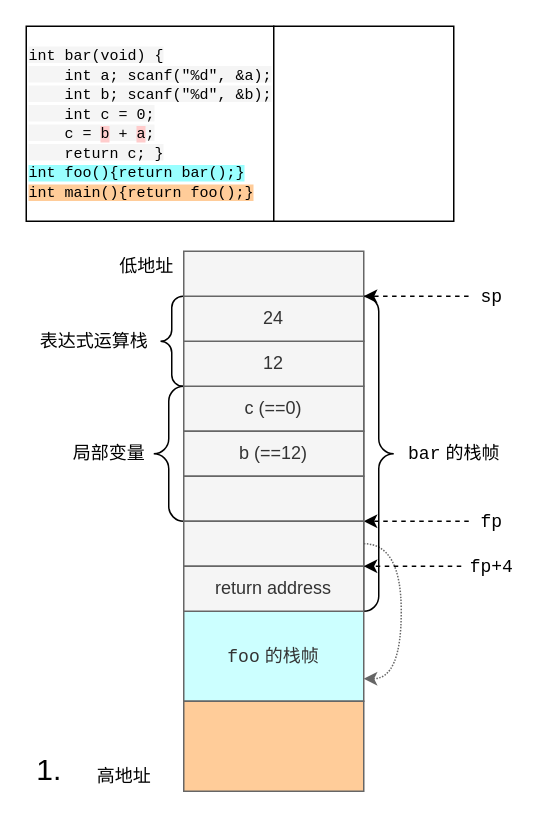
Image size: 548x818. Some labels were removed from this diagram. The shapes that lost their labels are listed below. From the top down, each one's centre as x and y in pixels, then its label:
pixel 363 123: …… 读取 b 并放到栈顶 读取 a 并放到栈顶 add 将栈顶保存到 c 语句完成 ……
pixel 273 498: a (==24)
pixel 273 543: old fp
pixel 273 745: main 的栈帧
